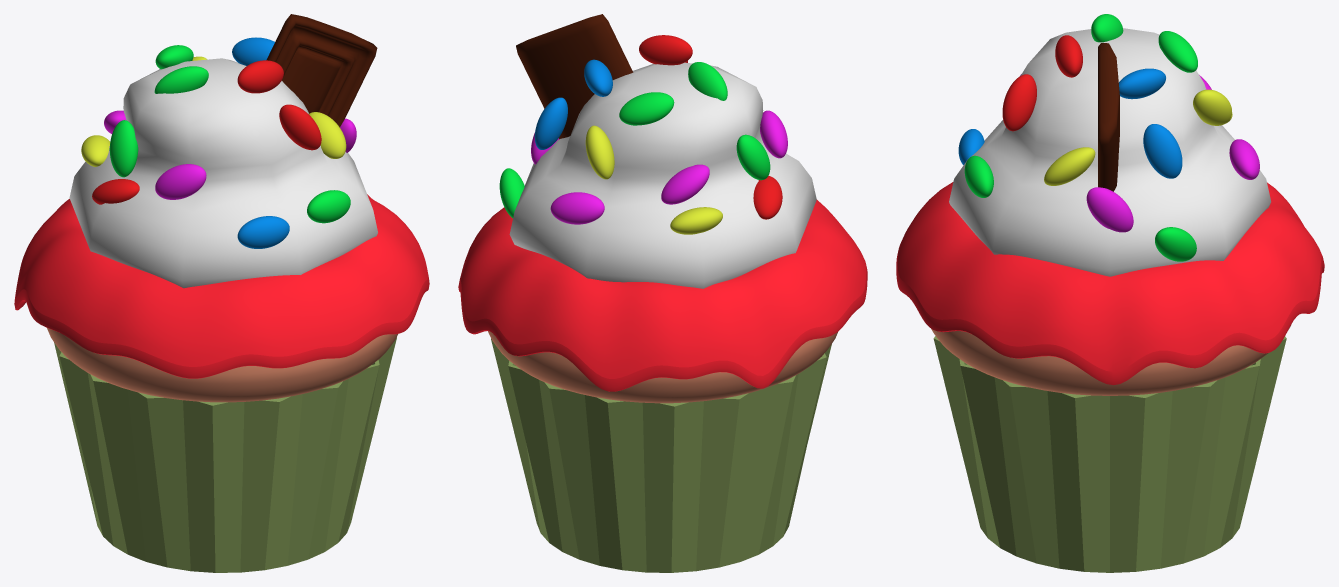
The model's file is cupkek.fbx.
3 renders of one model, left to right at view 1: azimuth 30°, elevation 25°; view 2: azimuth 150°, elevation 25°; view 3: azimuth 270°, elevation 25°, orthographic. The views are drawn at different scales.
Parts seen in each view (by area): view 1: cupcake; view 2: cupcake; view 3: cupcake.
Boxes of the visible parts, x1,y1,x2,y2 form: cupcake: (14, 14, 429, 572); cupcake: (458, 14, 867, 572); cupcake: (896, 14, 1324, 572).
Size of the model in its own units: 74.24 by 73.98 by 96.73.
